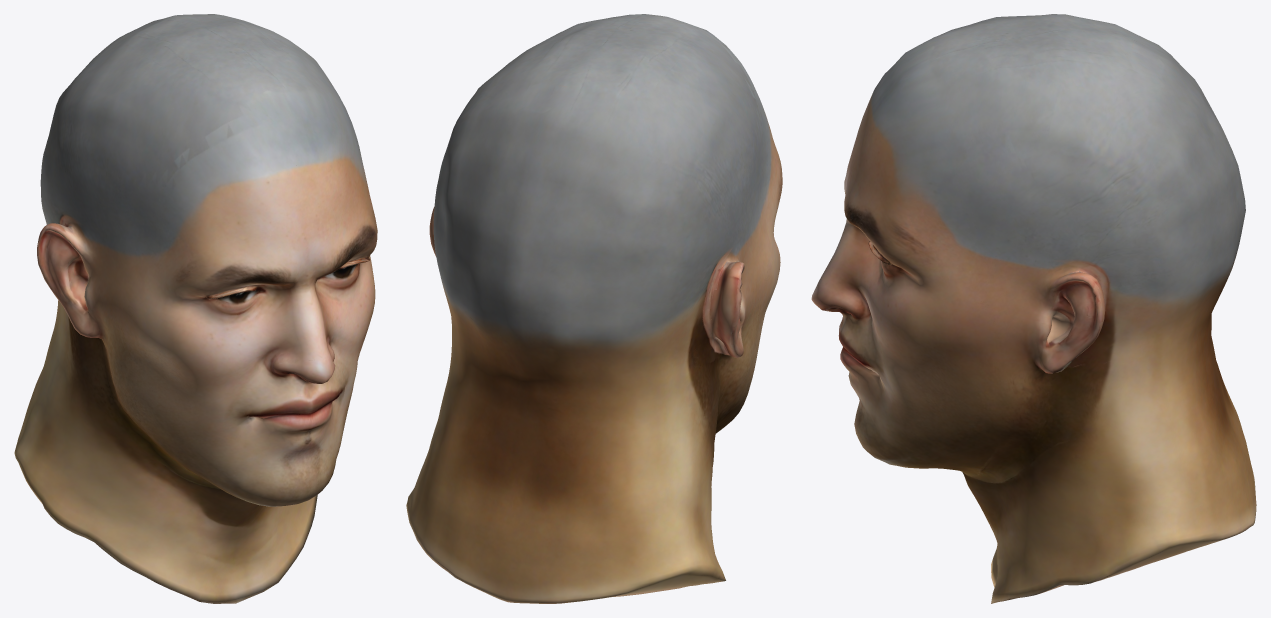
File: nose2.glb
The picture shows the model from 3 angles, left to right: view 1: azimuth 30°, elevation 25°; view 2: azimuth 150°, elevation 25°; view 3: azimuth 270°, elevation 25°; orthographic projection. The views are drawn at different scales.
Parts seen in each view (by area): view 1: Object_4; view 2: Object_4; view 3: Object_4.
Boxes of the visible parts, <box> form: Object_4: <box>14,14,377,603</box>; Object_4: <box>406,14,782,603</box>; Object_4: <box>811,14,1256,603</box>.
Size of the model in its own units: 1.14 by 2 by 1.42.
1 material, 1 textured.
